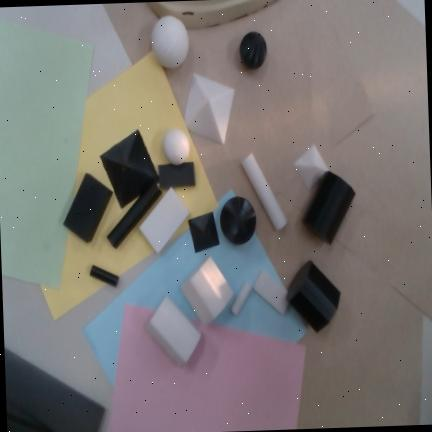Cilindro: (241, 153, 288, 232), (107, 184, 163, 249), (230, 282, 252, 315), (90, 265, 119, 287)
Esfera: (151, 16, 189, 68), (220, 197, 256, 245), (240, 32, 267, 71), (163, 129, 190, 165)
Paralelepipedo: (63, 173, 113, 243), (139, 186, 189, 254), (252, 269, 290, 315), (158, 162, 195, 189)
Piramide: (99, 129, 159, 209), (184, 72, 235, 145), (294, 144, 329, 191), (188, 211, 220, 253)
Prisma_hexagonal: (144, 294, 202, 367), (301, 171, 356, 245), (180, 255, 235, 326), (287, 261, 341, 333)
